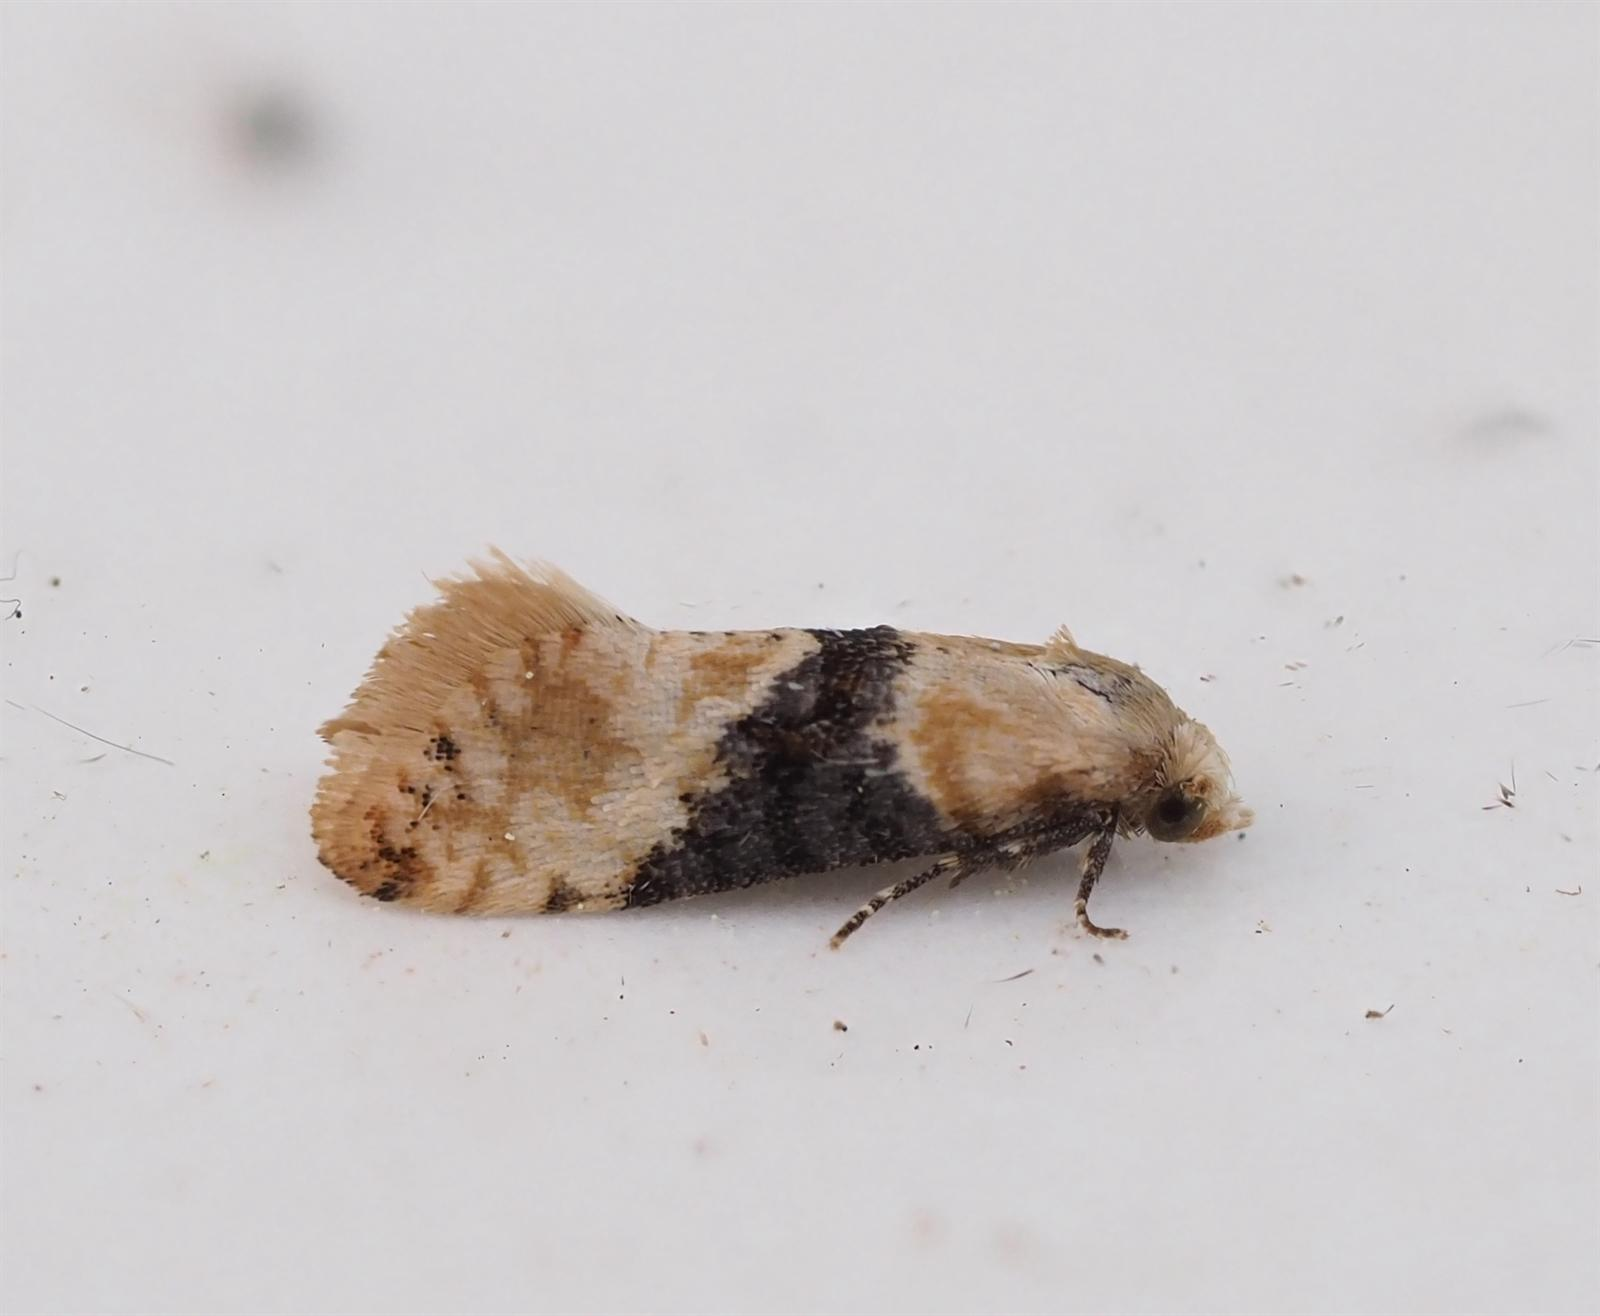Eupoecilia Ambiguella: (304, 540, 1256, 954)
